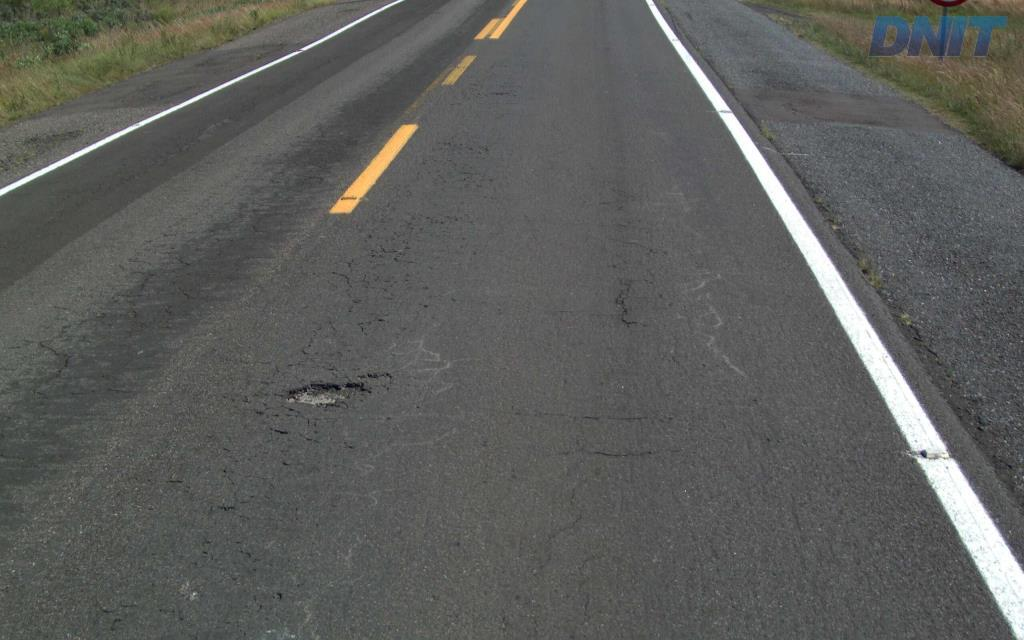pothole: (274, 375, 384, 413)
